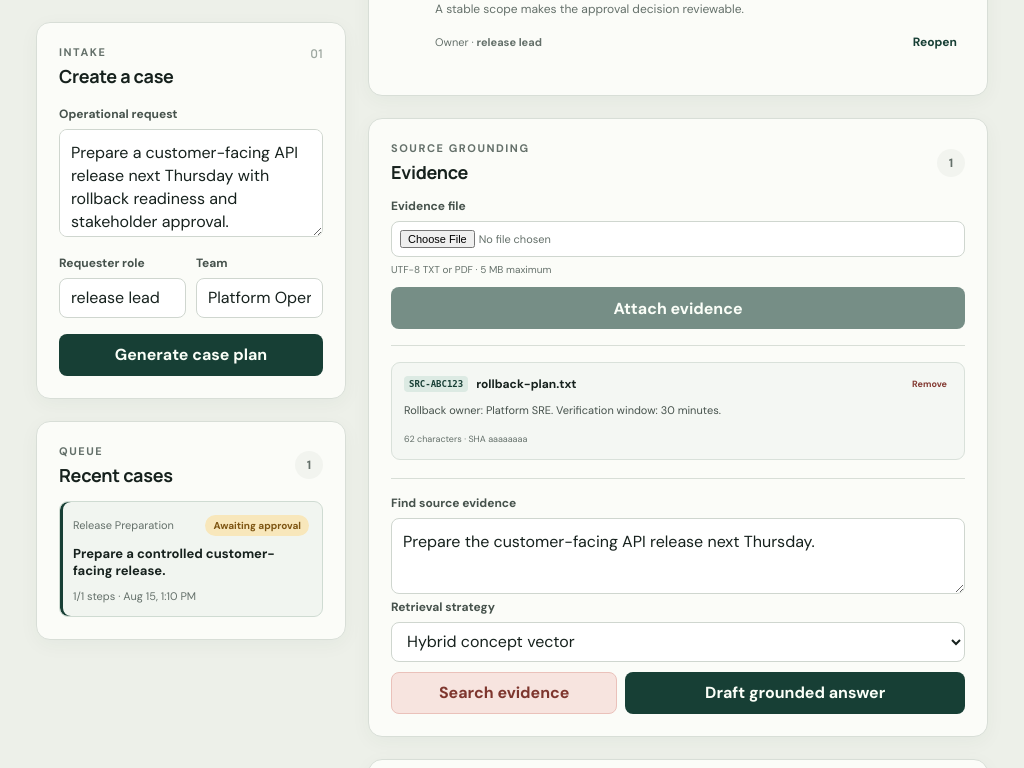
Workflow Copilot › confirms evidence removal and clears the source from the case
(page scrolled)
expect the text "rollback-plan.txt" is shown: met, box [476, 376, 576, 392]
Click the button with aria-label "Remove rollback-plan.txt": (930, 384) [907, 375, 952, 393]
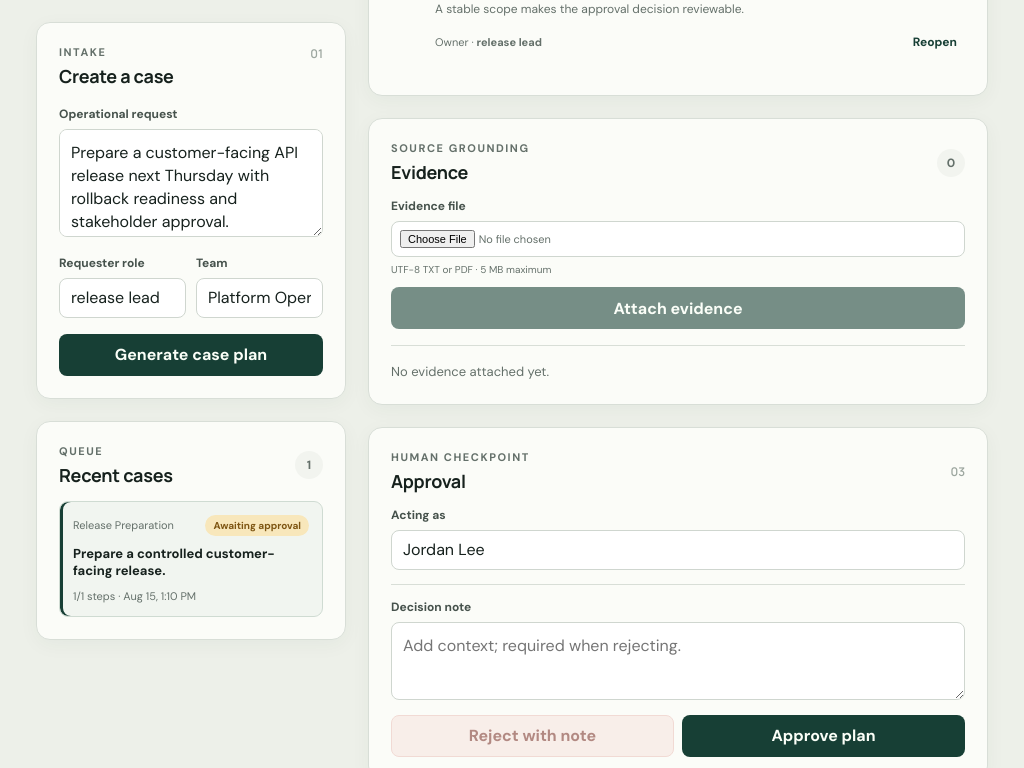
expect the text "No evidence attached yet." is shown: met, box [391, 363, 549, 380]
